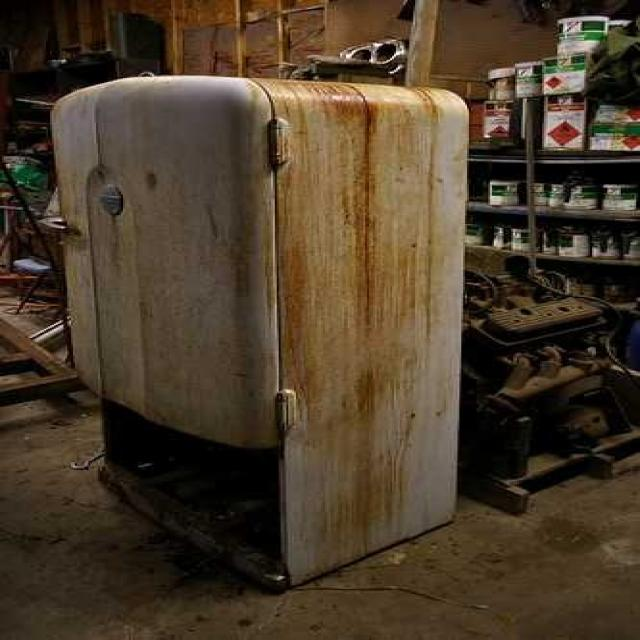refrigerator: (43, 77, 299, 594)
